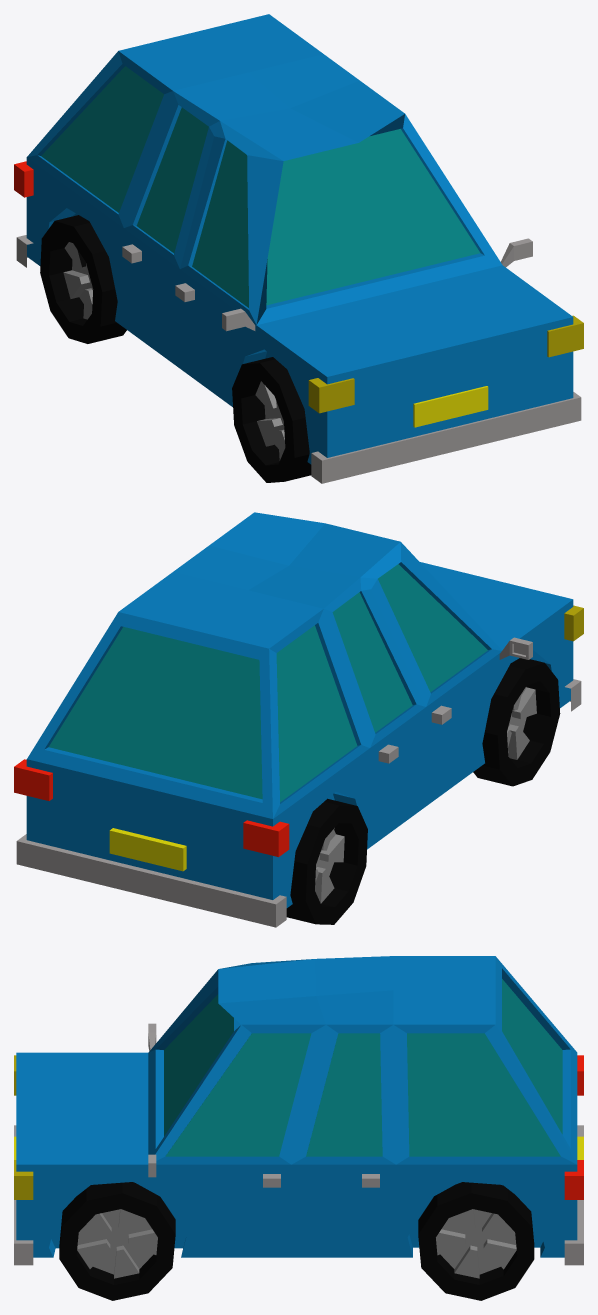
The model's file is Car1.fbx.
3 views of the same model, one above another, from view 1: azimuth 30°, elevation 25°; view 2: azimuth 150°, elevation 25°; view 3: azimuth 270°, elevation 25° (orthographic). The views are drawn at different scales.
Parts seen in each view (by area): view 1: Car1, R_Back_Wheel, R_Front_Wheel; view 2: Car1, R_Front_Wheel, R_Back_Wheel; view 3: Car1, L_Front_Wheel, L_Back_Wheel.
Part boxes in pixels (x1,y1,x2,y2): Car1: (14,14,583,483); R_Back_Wheel: (40,215,126,343); R_Front_Wheel: (232,357,311,482); Car1: (14,512,583,927); R_Front_Wheel: (473,658,560,786); R_Back_Wheel: (286,798,367,924); Car1: (14,956,583,1265); L_Front_Wheel: (59,1182,175,1300); L_Back_Wheel: (418,1182,534,1300).
Bounding box in the file's own units: 2.52 × 2.1 × 4.34.
